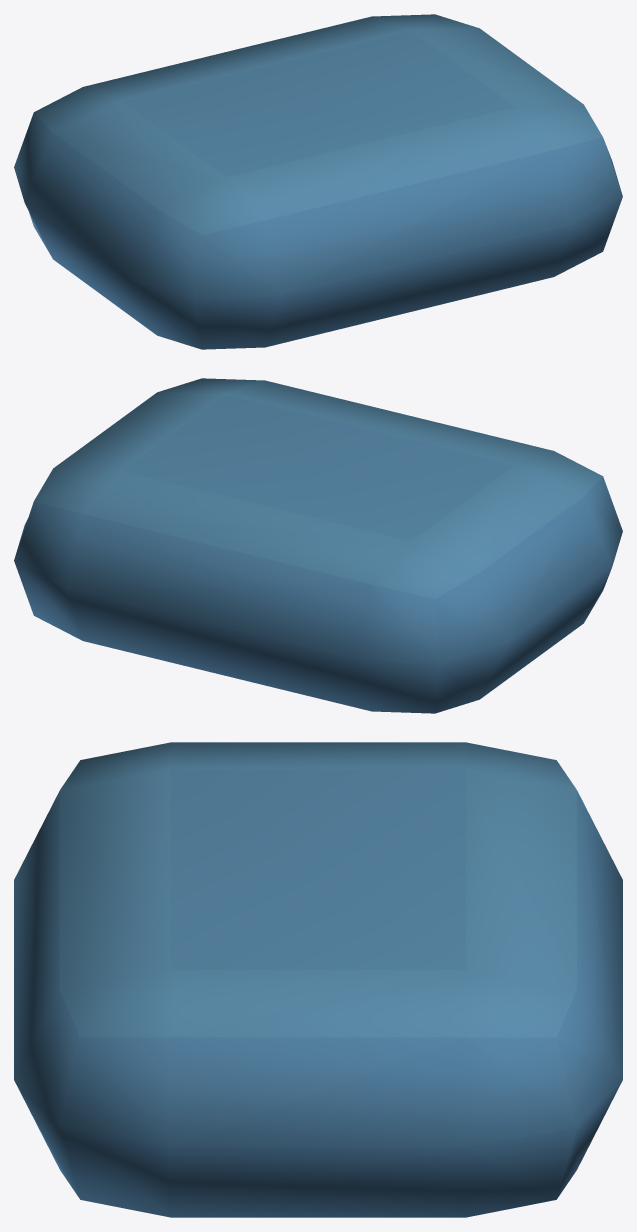
Rendered from kk_furniture_pillow_B.glb.
The picture shows the model from 3 angles, top to bottom: view 1: azimuth 30°, elevation 25°; view 2: azimuth 150°, elevation 25°; view 3: azimuth 270°, elevation 25°; orthographic projection. The views are drawn at different scales.
Visible parts, largest first — view 1: kk_furniture_pillow_B; view 2: kk_furniture_pillow_B; view 3: kk_furniture_pillow_B.
Part boxes in pixels (x1,y1,x2,y2): kk_furniture_pillow_B: [14, 14, 622, 349]; kk_furniture_pillow_B: [14, 378, 622, 713]; kk_furniture_pillow_B: [14, 742, 622, 1217].
Size of the model in its own units: 0.65 by 0.2 by 0.5.
